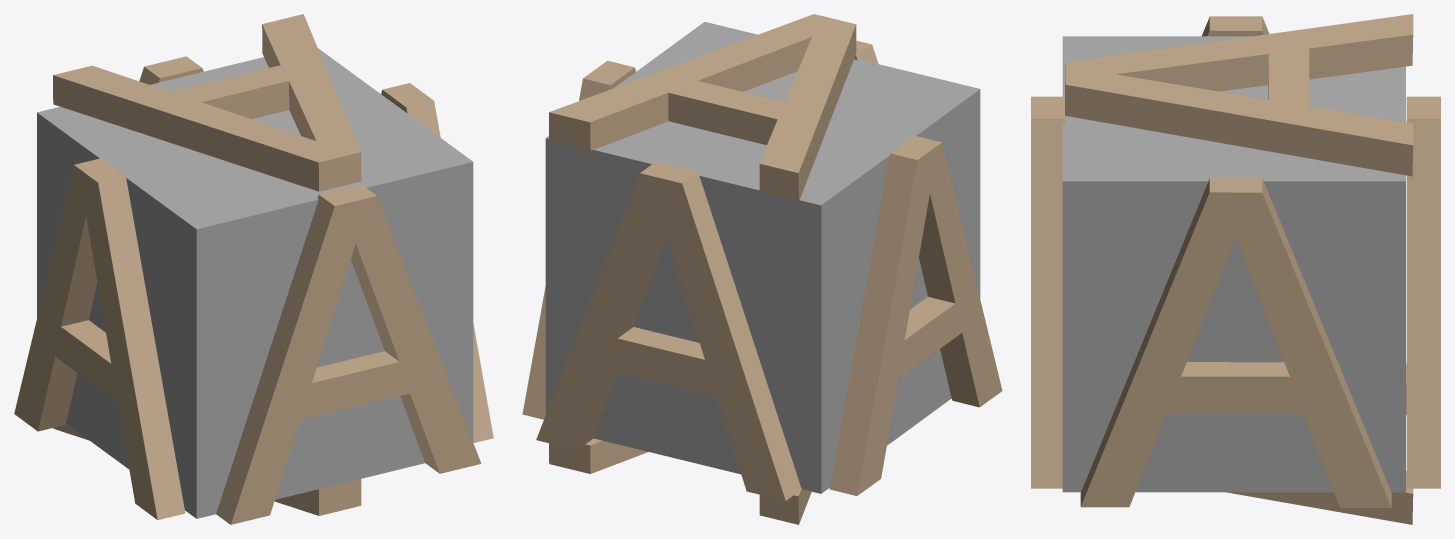
Rendered from LetterA.fbx.
3 views of the same model, side by side, from view 1: azimuth 30°, elevation 25°; view 2: azimuth 150°, elevation 25°; view 3: azimuth 270°, elevation 25° (orthographic). The views are drawn at different scales.
Visible parts, largest first — view 1: Box, Text Front, Text Left, Text Top, Text Right, Text Bottom, Text Back; view 2: Box, Text Back, Text Left, Text Top, Text Bottom, Text Right; view 3: Box, Text Right, Text Top, Text Back, Text Front, Text Bottom, Text Left.
Part boxes in pixels (x1=…): Box: x1=37, y1=48, x2=473, y2=518; Text Front: x1=216, y1=184, x2=481, y2=524; Text Left: x1=14, y1=158, x2=185, y2=519; Text Top: x1=53, y1=14, x2=361, y2=191; Text Right: x1=381, y1=83, x2=493, y2=442; Text Bottom: x1=53, y1=423, x2=361, y2=515; Text Back: x1=139, y1=56, x2=203, y2=84; Box: x1=545, y1=22, x2=980, y2=493; Text Back: x1=536, y1=161, x2=801, y2=500; Text Left: x1=829, y1=135, x2=1002, y2=495; Text Top: x1=549, y1=14, x2=856, y2=201; Text Bottom: x1=549, y1=438, x2=811, y2=524; Text Right: x1=522, y1=60, x2=635, y2=419; Box: x1=1062, y1=36, x2=1405, y2=492; Text Right: x1=1080, y1=178, x2=1391, y2=507; Text Top: x1=1065, y1=14, x2=1413, y2=176; Text Back: x1=1406, y1=96, x2=1440, y2=488; Text Front: x1=1031, y1=96, x2=1065, y2=488; Text Bottom: x1=1227, y1=363, x2=1413, y2=524; Text Left: x1=1202, y1=16, x2=1269, y2=36.
Bounding box in the file's own units: 1.22 × 1.24 × 1.19.
